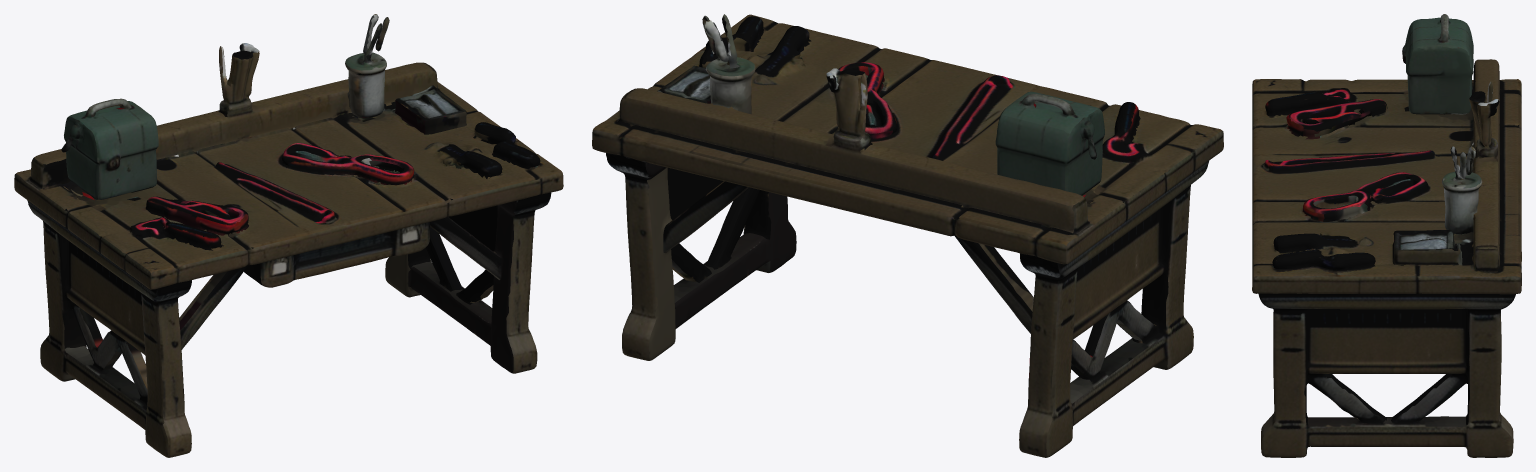
File: catalog-bench-1.glb
The picture shows the model from 3 angles, left to right: view 1: azimuth 30°, elevation 25°; view 2: azimuth 150°, elevation 25°; view 3: azimuth 270°, elevation 25°; orthographic projection. The views are drawn at different scales.
Parts seen in each view (by area): view 1: tmptmfbj4ky.ply; view 2: tmptmfbj4ky.ply; view 3: tmptmfbj4ky.ply.
Part boxes in pixels (x1=…): tmptmfbj4ky.ply: x1=14, y1=14, x2=563, y2=457; tmptmfbj4ky.ply: x1=592, y1=14, x2=1223, y2=457; tmptmfbj4ky.ply: x1=1252, y1=14, x2=1521, y2=457.
Size of the model in its own units: 1.96 by 1.32 by 1.13.
1 material, 1 textured.
